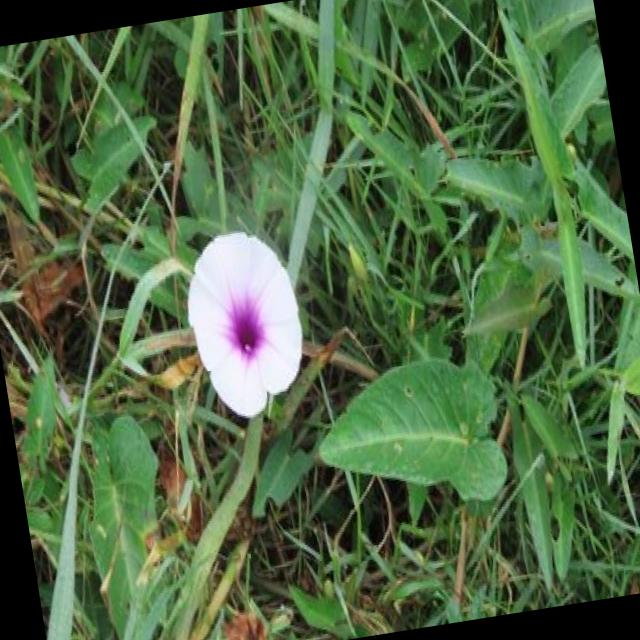ipomoea: (172, 218, 318, 430)
